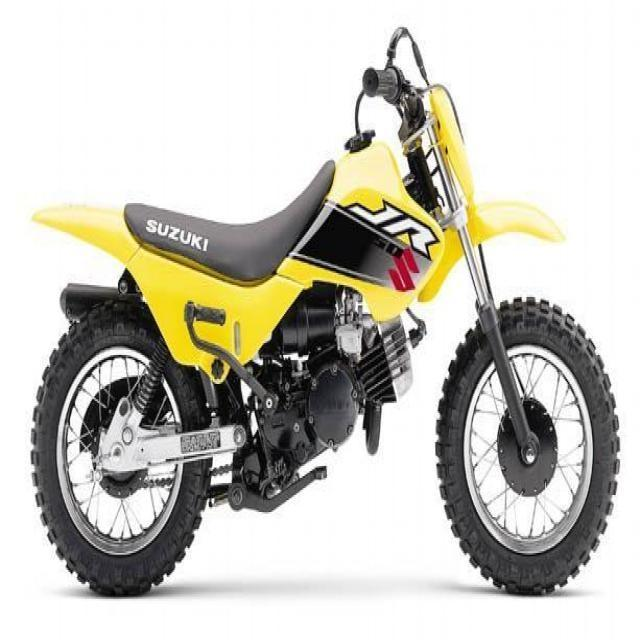Motorcycle: (24, 55, 626, 594)
